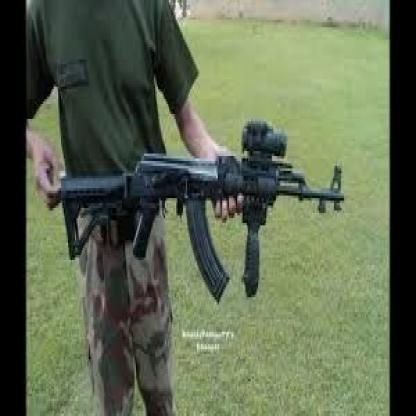Gun: (53, 94, 347, 314)
